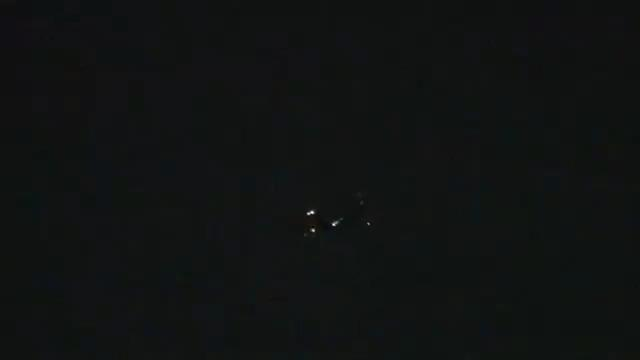Plane: (279, 200, 347, 244)
